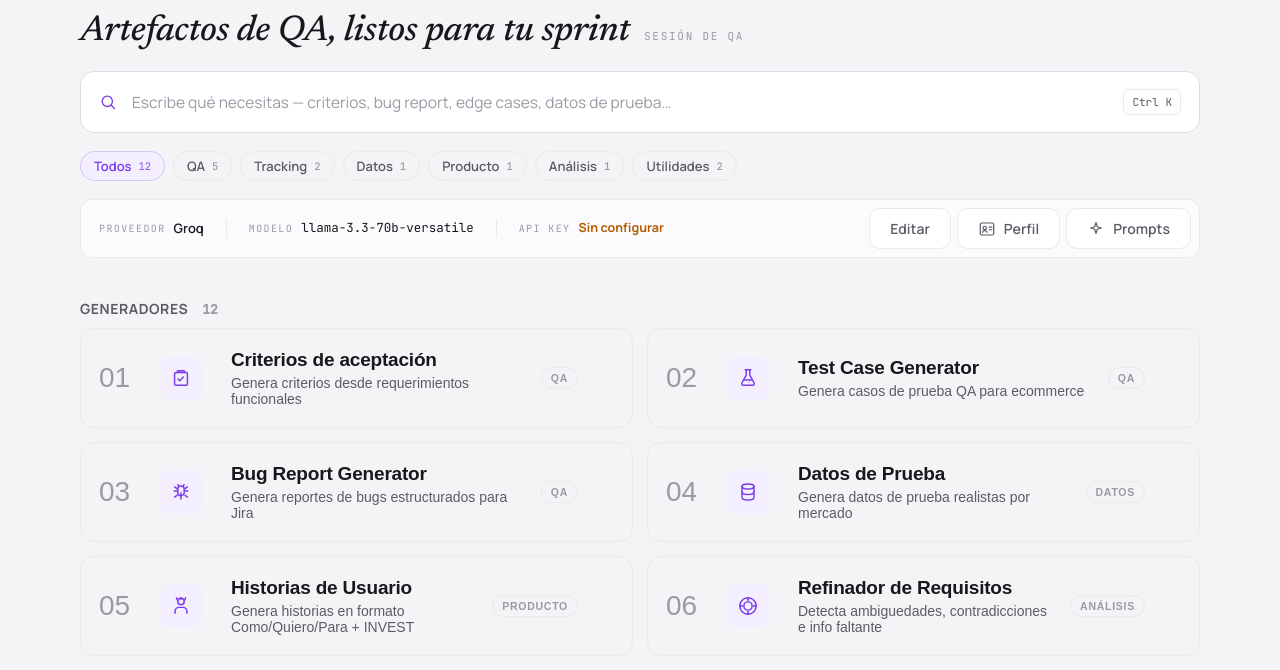
Test: LandingScreen — buscador y filtros › el chip de familia filtra y se puede desactivar
Click the button with class "ld-chip" showing "Tracking 2" at (287, 166), box [240,151,335,181]
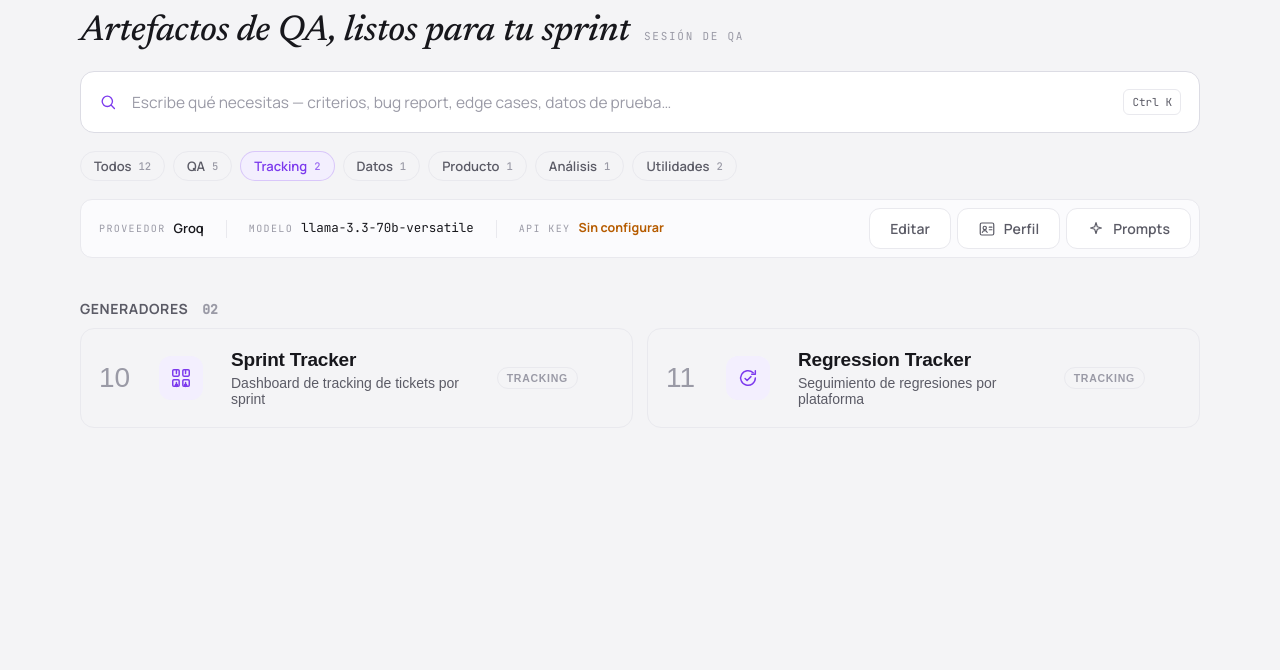
Check: the number of buttons with class "tool-row" is 2, box [80,328,633,428]; [647,328,1200,428]
Click the button with class "ld-chip" showing "Tracking 2" at (287, 166), box [240,151,335,181]
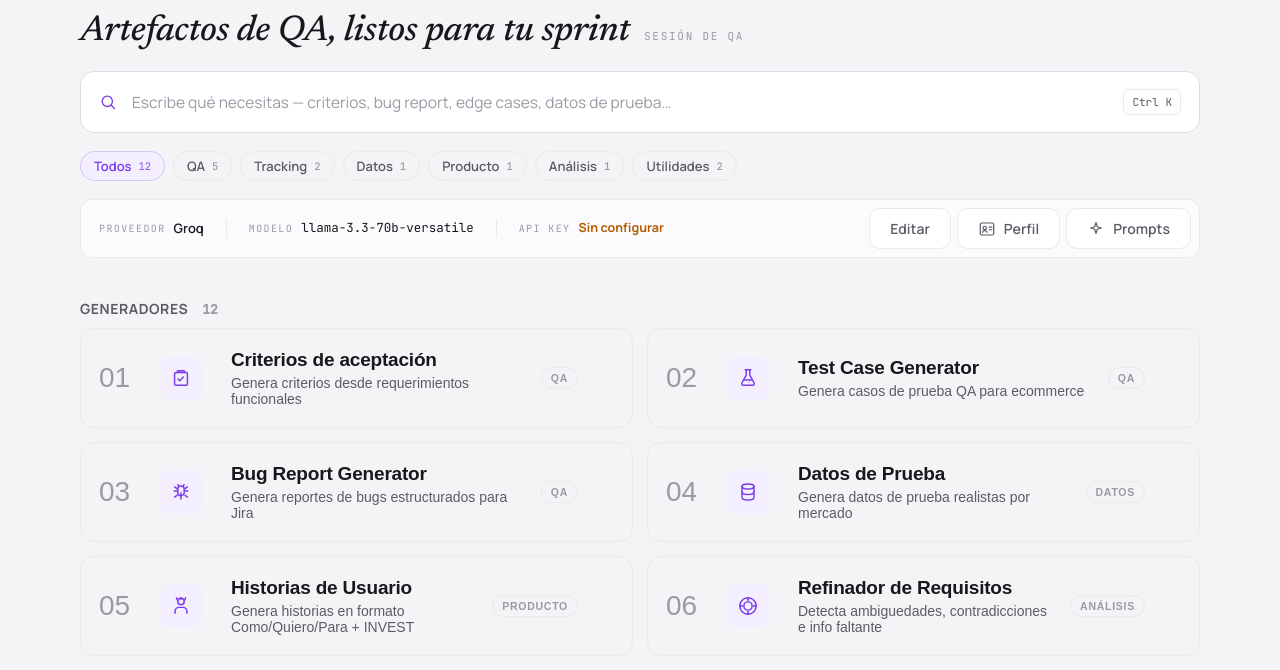
Check: the number of buttons with class "tool-row" is 12
